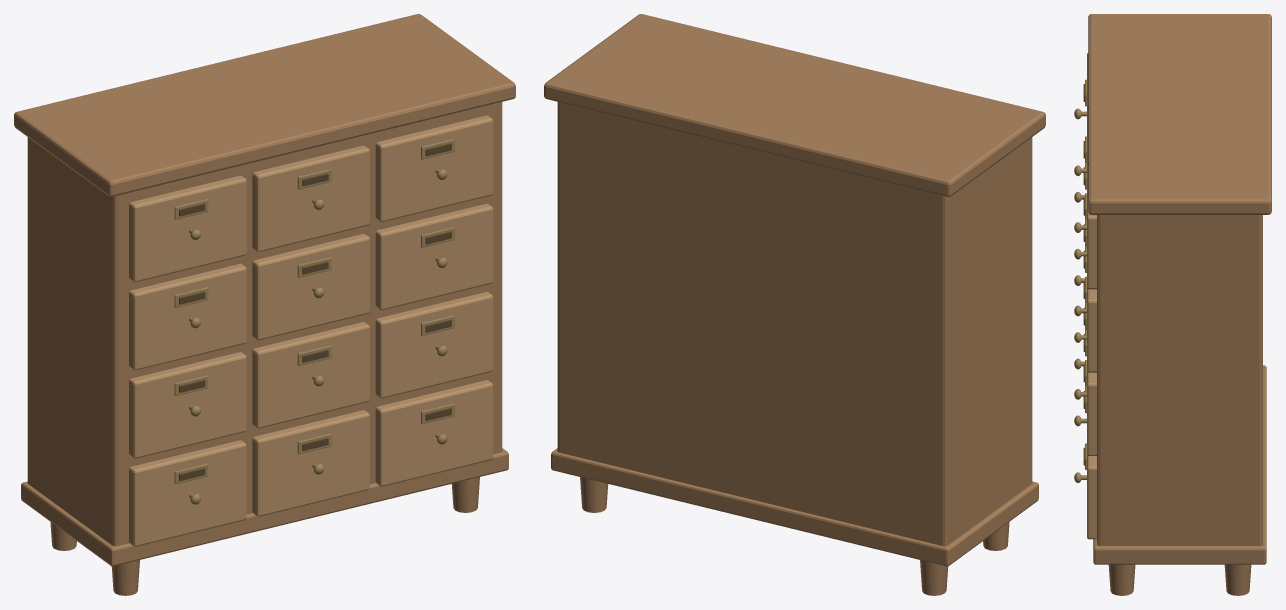
The model's file is dresser_apothecary.glb.
3 views of the same model, side by side, from view 1: azimuth 30°, elevation 25°; view 2: azimuth 150°, elevation 25°; view 3: azimuth 270°, elevation 25° (orthographic). The views are drawn at different scales.
Visible parts, largest first — view 1: Twelve-drawer apothecary chest closed cabinet, Twelve-drawer apothecary chest overhanging top, Apothecary drawer 2-3 closed drawer face, Apothecary drawer 4-3 closed drawer face, Apothecary drawer 1-3 closed drawer face, Apothecary drawer 3-3 closed drawer face, Apothecary drawer 3-2 closed drawer face, Apothecary drawer 1-2 closed drawer face, Apothecary drawer 2-1 closed drawer face, Apothecary drawer 1-1 closed drawer face, Apothecary drawer 2-2 closed drawer face, Apothecary drawer 4-1 closed drawer face (+5 smaller); view 2: Twelve-drawer apothecary chest closed cabinet, Twelve-drawer apothecary chest overhanging top, Twelve-drawer apothecary chest base molding, Twelve-drawer apothecary chest grounded turned foot.001, Twelve-drawer apothecary chest grounded turned foot.003; view 3: Twelve-drawer apothecary chest closed cabinet, Twelve-drawer apothecary chest overhanging top, Twelve-drawer apothecary chest base molding, Apothecary drawer 4-3 closed drawer face, Apothecary drawer 2-3 closed drawer face, Apothecary drawer 3-3 closed drawer face, Apothecary drawer 1-3 closed drawer face, Twelve-drawer apothecary chest grounded turned foot.002, Twelve-drawer apothecary chest grounded turned foot.003.
Part boxes in pixels (x1=…): Twelve-drawer apothecary chest closed cabinet: x1=27, y1=102, x2=502, y2=546; Twelve-drawer apothecary chest overhanging top: x1=14, y1=14, x2=515, y2=196; Apothecary drawer 2-3 closed drawer face: x1=375, y1=292, x2=493, y2=398; Apothecary drawer 4-3 closed drawer face: x1=375, y1=115, x2=493, y2=221; Apothecary drawer 1-3 closed drawer face: x1=375, y1=380, x2=493, y2=486; Apothecary drawer 3-3 closed drawer face: x1=375, y1=203, x2=493, y2=310; Apothecary drawer 3-2 closed drawer face: x1=252, y1=233, x2=369, y2=340; Apothecary drawer 1-2 closed drawer face: x1=252, y1=410, x2=369, y2=516; Apothecary drawer 2-1 closed drawer face: x1=129, y1=352, x2=246, y2=458; Apothecary drawer 1-1 closed drawer face: x1=129, y1=440, x2=246, y2=546; Apothecary drawer 2-2 closed drawer face: x1=252, y1=322, x2=369, y2=428; Apothecary drawer 4-1 closed drawer face: x1=129, y1=175, x2=246, y2=282; Twelve-drawer apothecary chest closed cabinet: x1=557, y1=102, x2=1032, y2=546; Twelve-drawer apothecary chest overhanging top: x1=544, y1=14, x2=1045, y2=196; Twelve-drawer apothecary chest base molding: x1=551, y1=448, x2=1038, y2=566; Twelve-drawer apothecary chest grounded turned foot.001: x1=920, y1=560, x2=948, y2=595; Twelve-drawer apothecary chest grounded turned foot.003: x1=580, y1=477, x2=608, y2=512; Twelve-drawer apothecary chest closed cabinet: x1=1097, y1=215, x2=1262, y2=545; Twelve-drawer apothecary chest overhanging top: x1=1088, y1=14, x2=1271, y2=214; Twelve-drawer apothecary chest base molding: x1=1093, y1=365, x2=1266, y2=564; Apothecary drawer 4-3 closed drawer face: x1=1087, y1=166, x2=1096, y2=289; Apothecary drawer 2-3 closed drawer face: x1=1087, y1=371, x2=1096, y2=455; Apothecary drawer 3-3 closed drawer face: x1=1087, y1=288, x2=1096, y2=372; Apothecary drawer 1-3 closed drawer face: x1=1087, y1=454, x2=1096, y2=539; Twelve-drawer apothecary chest grounded turned foot.002: x1=1108, y1=564, x2=1135, y2=595; Twelve-drawer apothecary chest grounded turned foot.003: x1=1224, y1=564, x2=1251, y2=595.
Bounding box in the file's own units: 1.15 × 1.16 × 0.5115.
